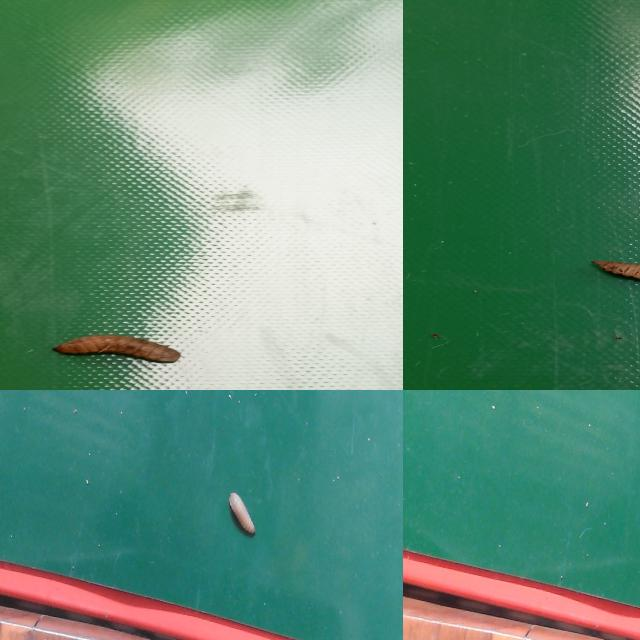Maggot: (52, 334, 182, 366), (227, 493, 258, 539), (591, 262, 640, 284)
